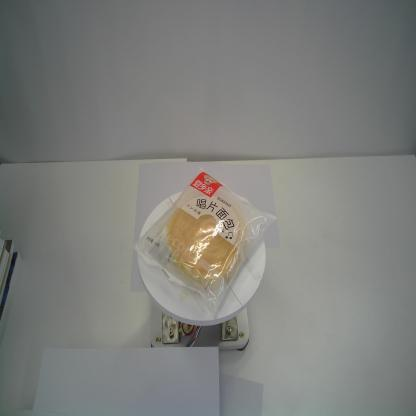Dessert: (131, 163, 277, 320)
